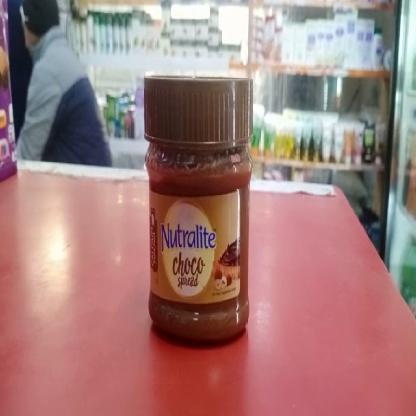Nutralite CHOCO SPREAD CALCIUM 275g: (144, 78, 253, 345)
